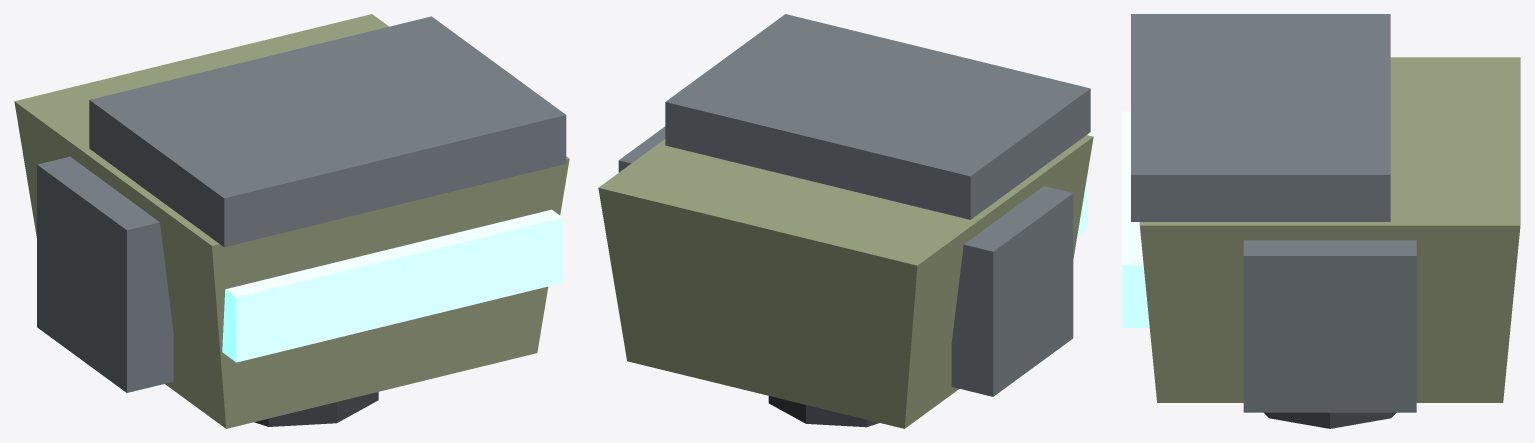
The model's file is mech-hangar-and-battle-frames-visor-head-1733f5c0__26886.glb.
3 views of the same model, side by side, from view 1: azimuth 30°, elevation 25°; view 2: azimuth 150°, elevation 25°; view 3: azimuth 270°, elevation 25° (orthographic). The views are drawn at different scales.
Parts seen in each view (by area): view 1: visor-head; view 2: visor-head; view 3: visor-head.
Boxes of the visible parts, x1,y1,x2,y2 form: visor-head: (14,14,569,428); visor-head: (598,14,1093,428); visor-head: (1122,14,1520,428).
Bounding box in the file's own units: 0.54 × 0.38 × 0.46.
